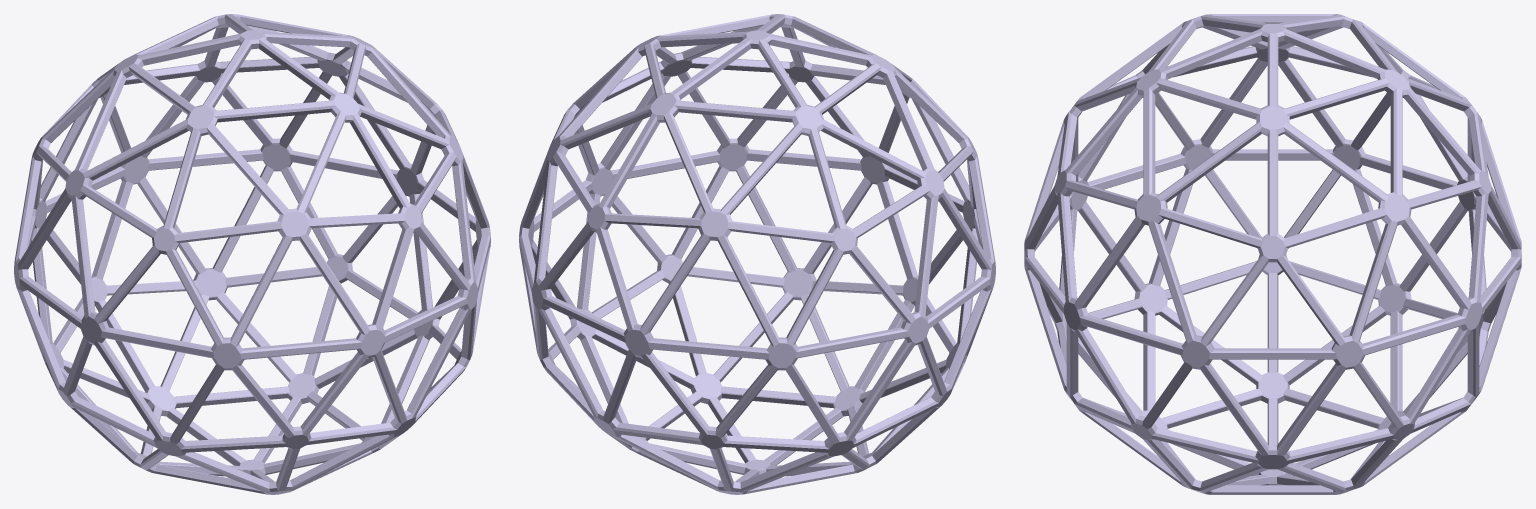
File: cage.gltf
The picture shows the model from 3 angles, left to right: view 1: azimuth 30°, elevation 25°; view 2: azimuth 150°, elevation 25°; view 3: azimuth 270°, elevation 25°; orthographic projection. The views are drawn at different scales.
Visible parts, largest first — view 1: Icosphere; view 2: Icosphere; view 3: Icosphere.
Part boxes in pixels (x1=…): Icosphere: x1=14, y1=14, x2=490, y2=494; Icosphere: x1=519, y1=14, x2=995, y2=494; Icosphere: x1=1024, y1=14, x2=1521, y2=494.
Bounding box in the file's own units: 1.94 × 2.01 × 2.
